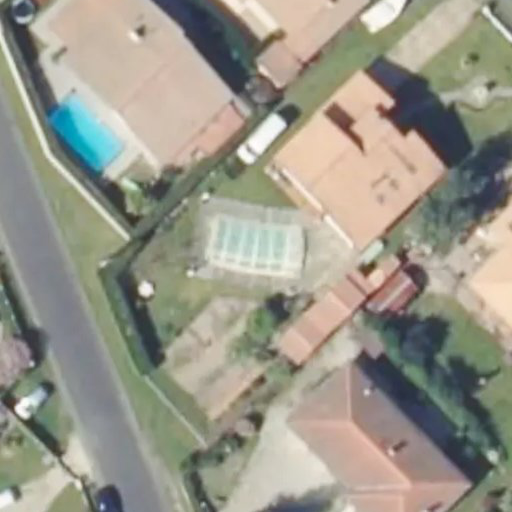pool: (204, 208, 308, 279), (45, 88, 125, 178)
